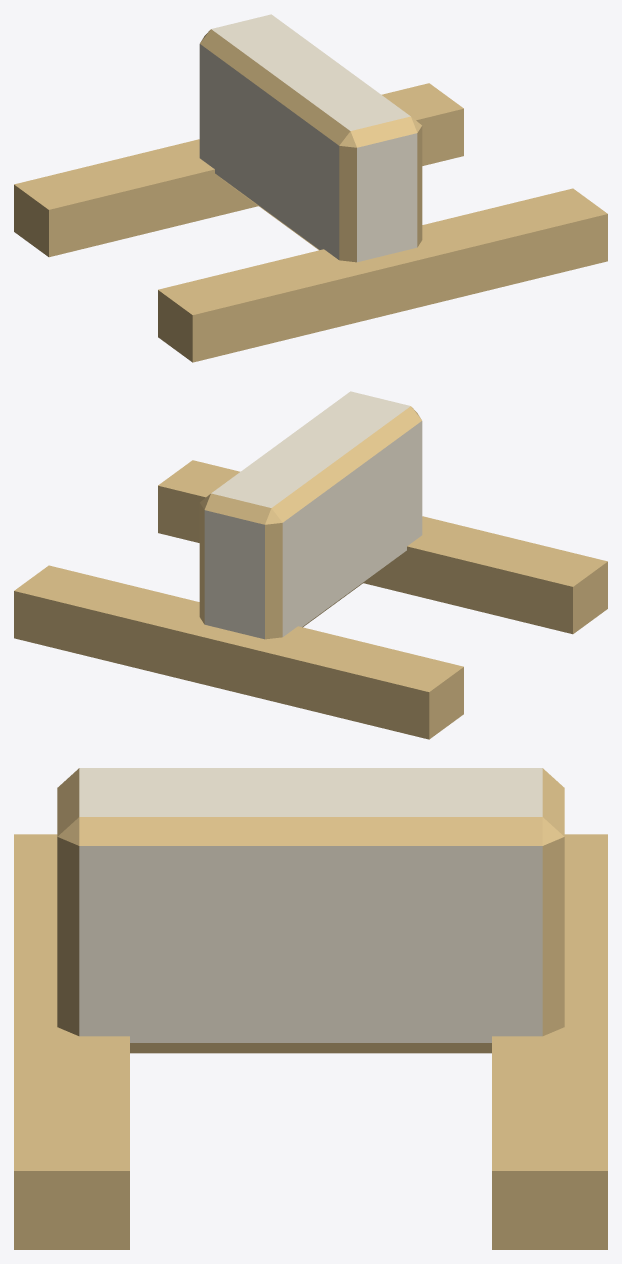
The model's file is TH_Base_Skid.fbx.
3 views of the same model, one above another, from view 1: azimuth 30°, elevation 25°; view 2: azimuth 150°, elevation 25°; view 3: azimuth 270°, elevation 25° (orthographic). The views are drawn at different scales.
Visible parts, largest first — view 1: TH_Base_Skid; view 2: TH_Base_Skid; view 3: TH_Base_Skid.
Part boxes in pixels (left/top/right/bottom): TH_Base_Skid: left=14, top=14, right=607, bottom=362; TH_Base_Skid: left=14, top=391, right=607, bottom=739; TH_Base_Skid: left=14, top=768, right=607, bottom=1249.
Bounding box in the file's own units: 1.1 × 0.44 × 0.82.
